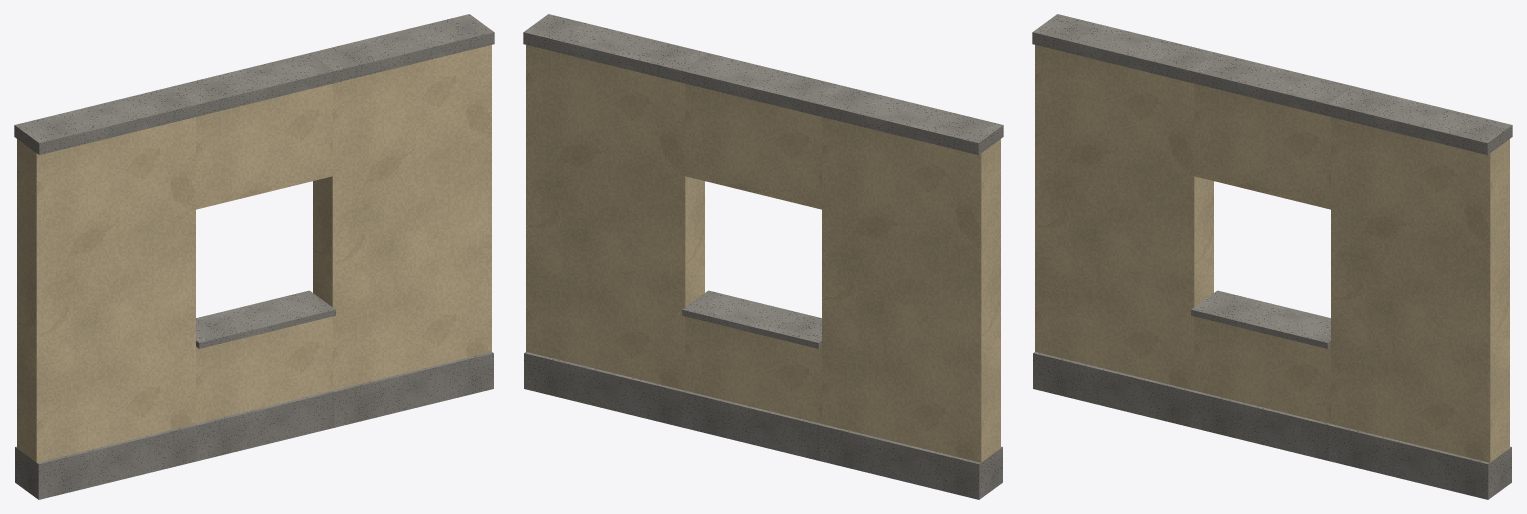
Rendered from wall-window-4m.glb.
The picture shows the model from 3 angles, left to right: view 1: azimuth 30°, elevation 25°; view 2: azimuth 150°, elevation 25°; view 3: azimuth 330°, elevation 25°; orthographic projection.
Parts seen in each view (by area): view 1: wall-window-4m; view 2: wall-window-4m; view 3: wall-window-4m.
Boxes of the visible parts, x1,y1,x2,y2 form: wall-window-4m: (14,14,494,499); wall-window-4m: (523,14,1003,499); wall-window-4m: (1032,14,1512,499).
Bounding box in the file's own units: 4 × 3 × 0.4.
1 material, 1 textured.
